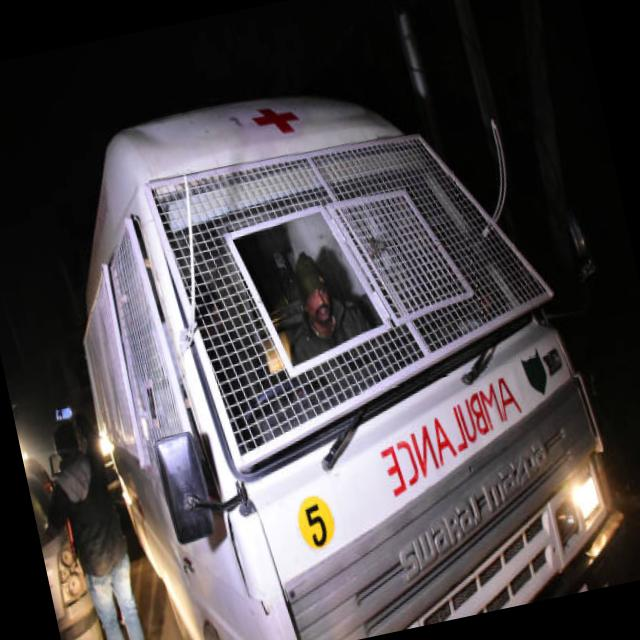ambulance: (357, 364, 538, 508), (242, 93, 305, 154)
